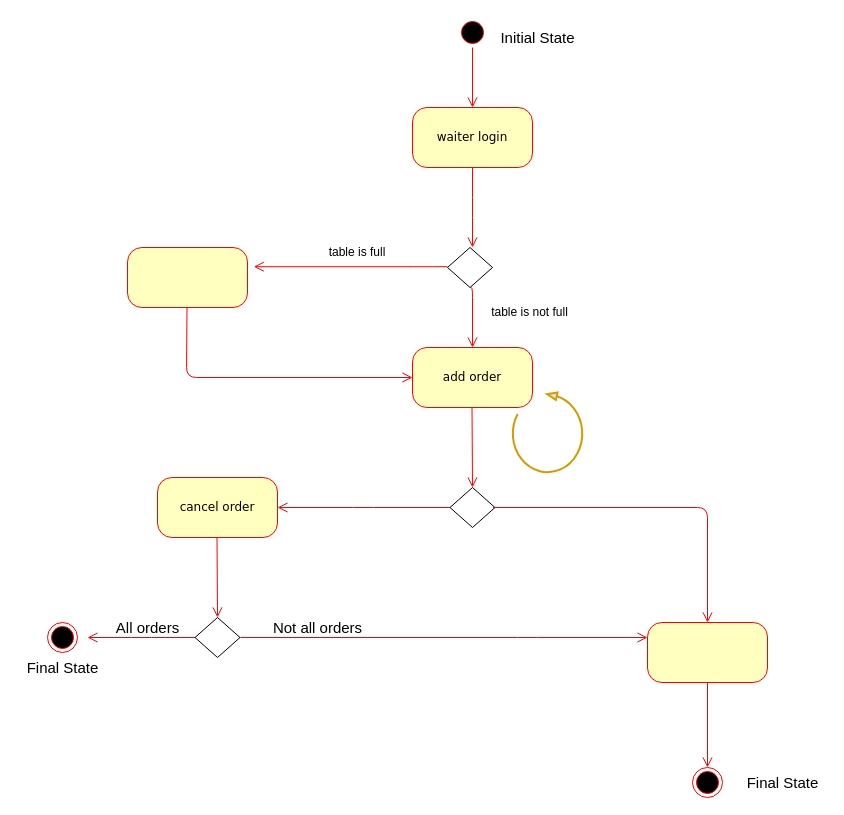
Image size: 844x815. Some labels were removed from this diagram. The centre of each missing label's shape, as x and y in pixels:
getPaid: [707,652]
redirect another table: [187,277]
